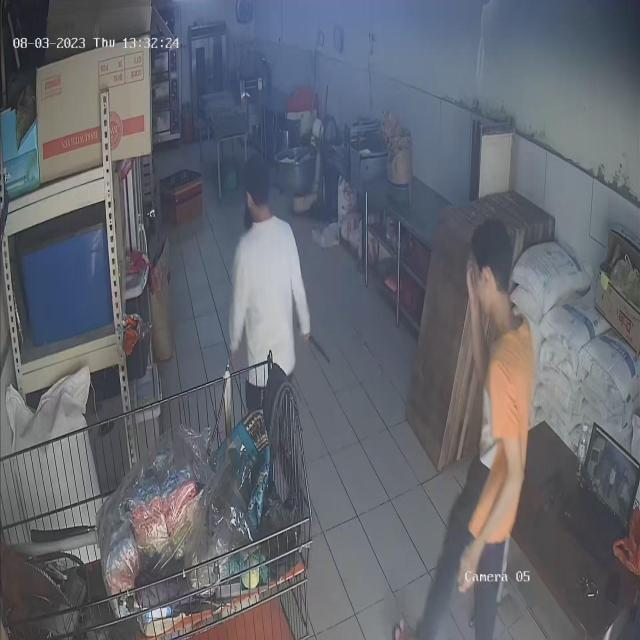Knife: (304, 319, 333, 370)
